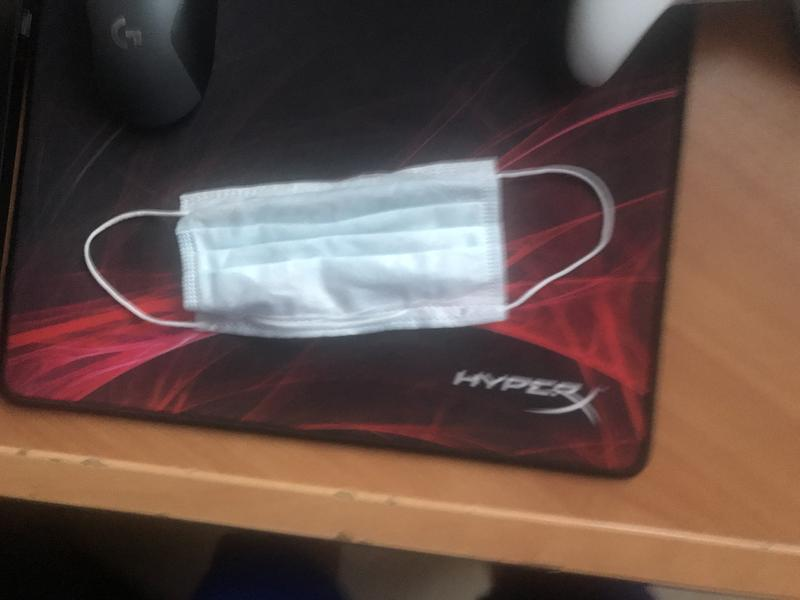medical_mask: (78, 162, 611, 333)
